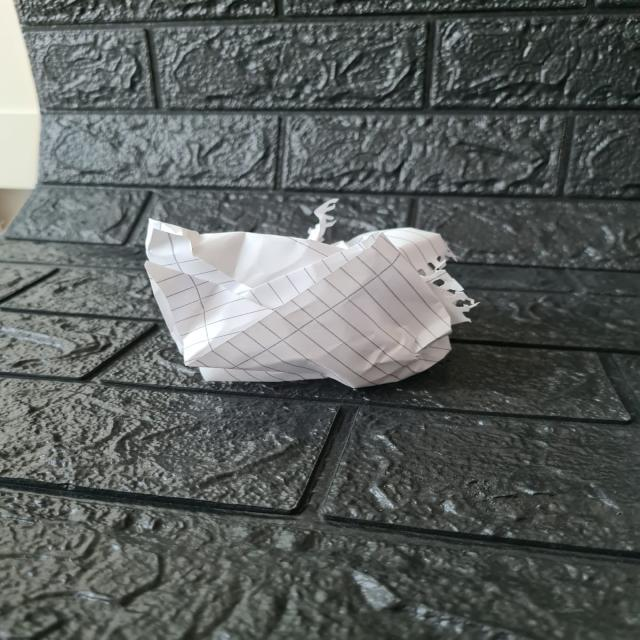Paper: (141, 220, 465, 388)
